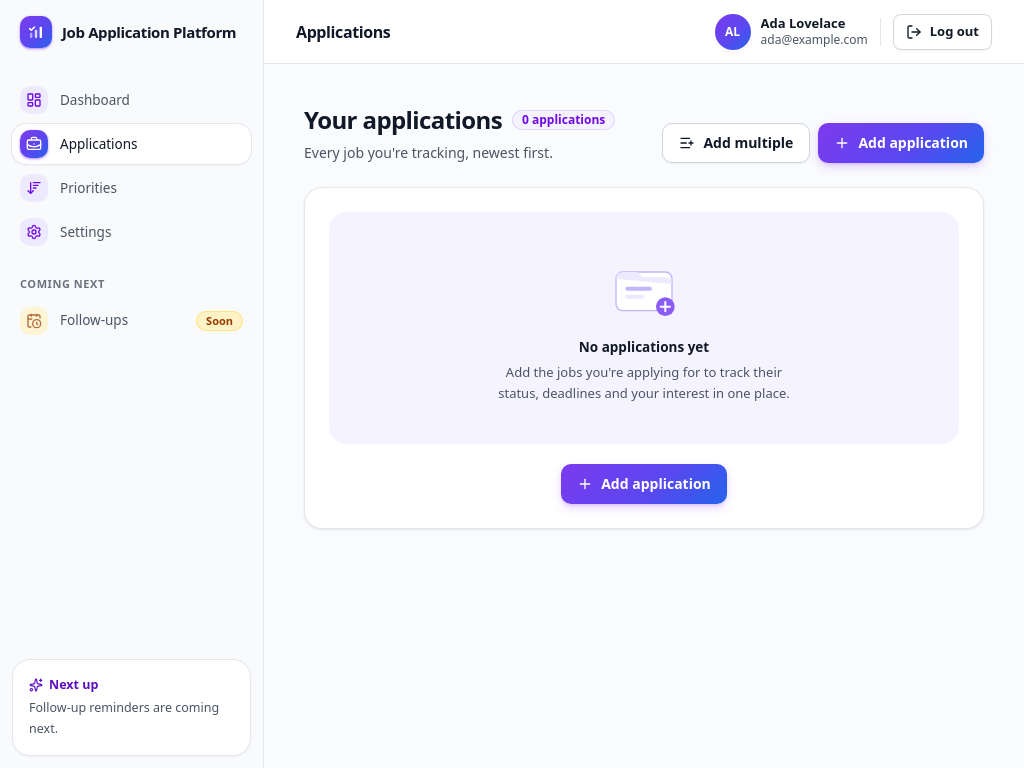
it: bulk entry interface › opens from the Applications page via "Add multiple" (single "Add application" is kept)
Expected: the text "No applications yet" is shown, [579,337,709,358]
Expected: the button "Add application" next to "Add multiple" is shown, [818,123,984,163]
Click the link "Add multiple": (736, 143) [662,123,810,163]
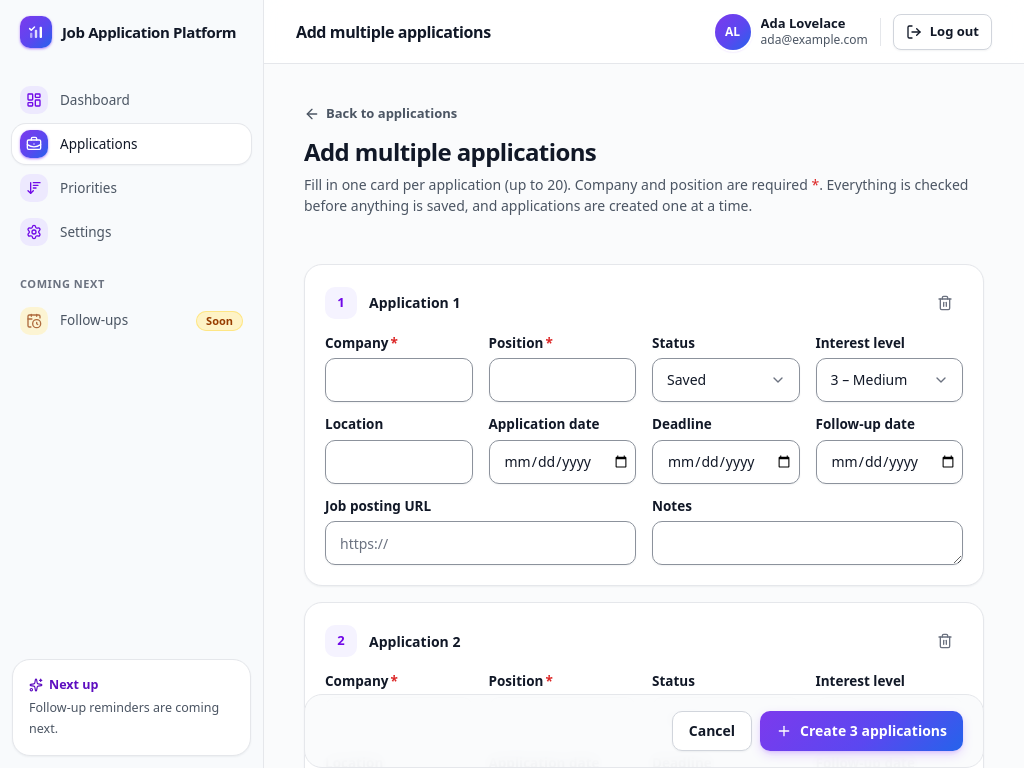
Now the heading "Add multiple applications" below "Back to applications" is shown, box [304,134,596,168]
